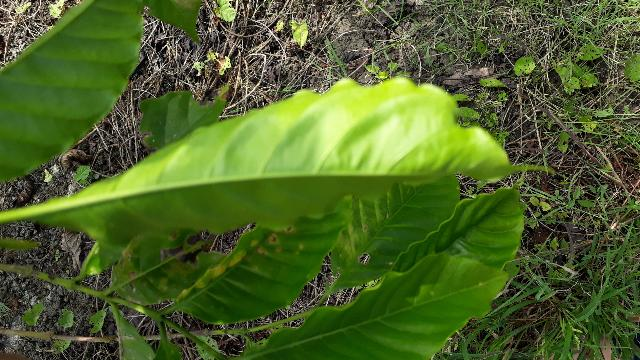healthy: (27, 74, 556, 250)
